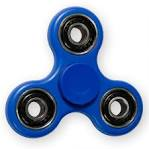fidget_spinner: (1, 1, 148, 139)
